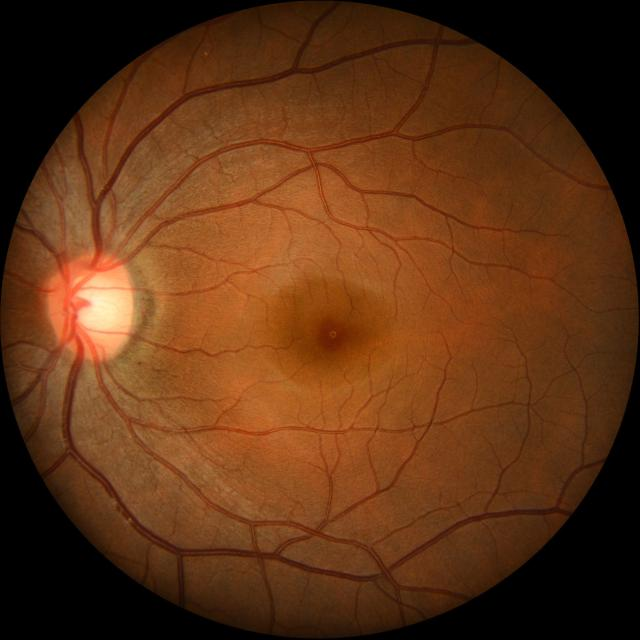OC: (68, 276, 120, 332)
OD: (45, 253, 136, 359)
